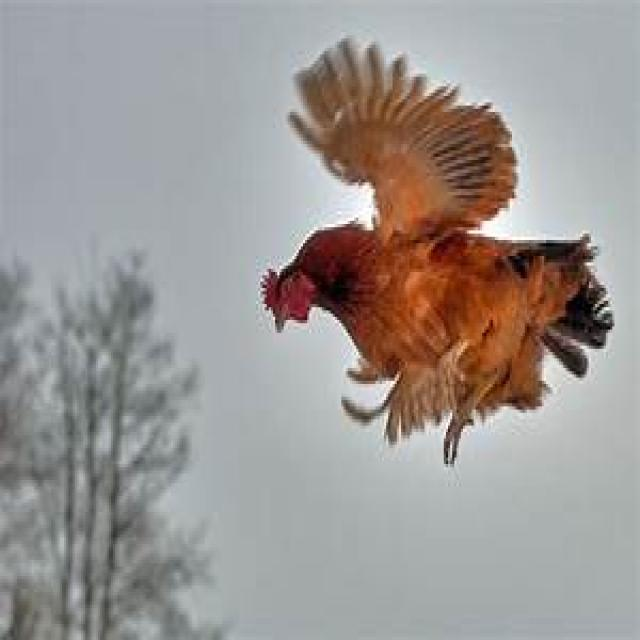hen: (260, 38, 612, 464)
